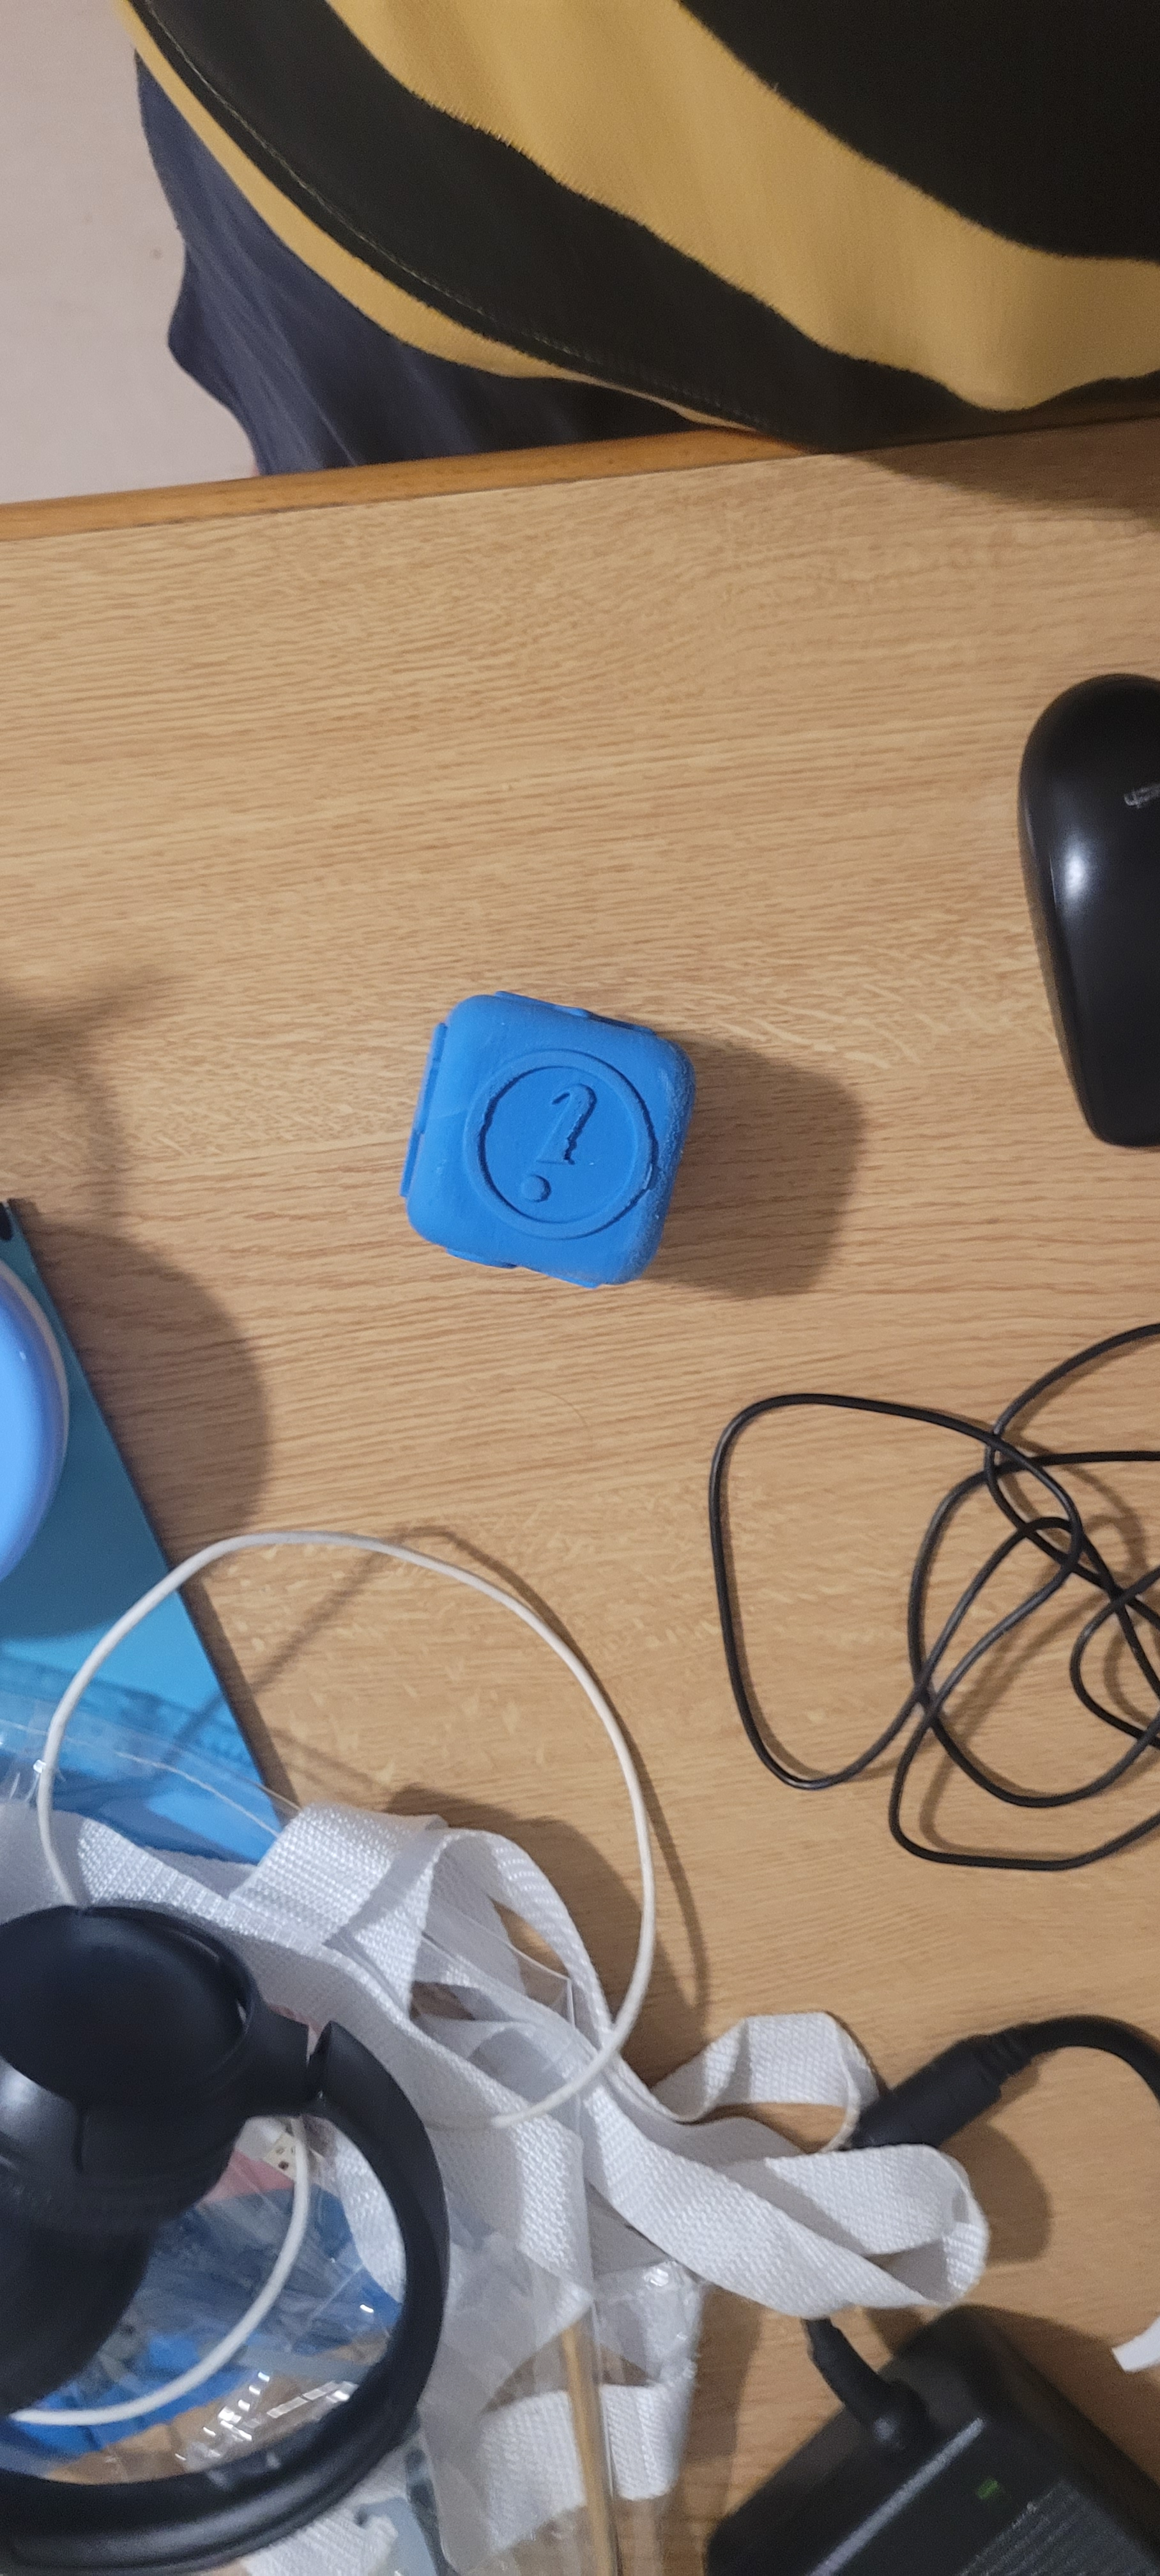Info: (450, 1014, 675, 1252)
